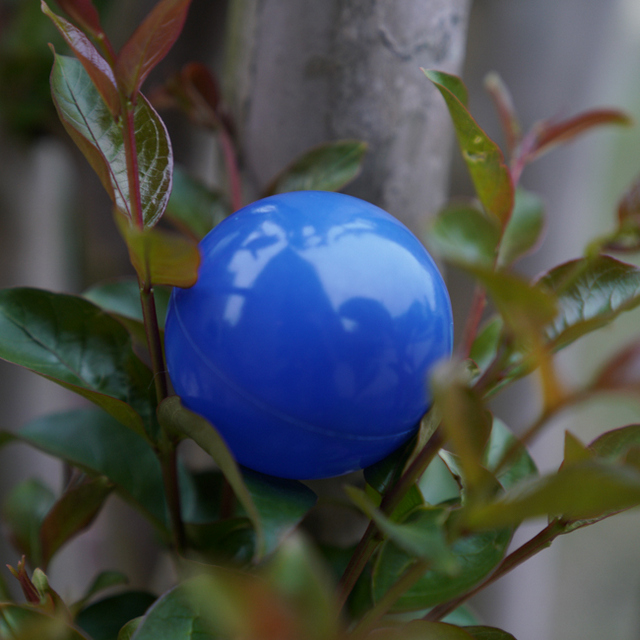Ball: (165, 191, 453, 480)
